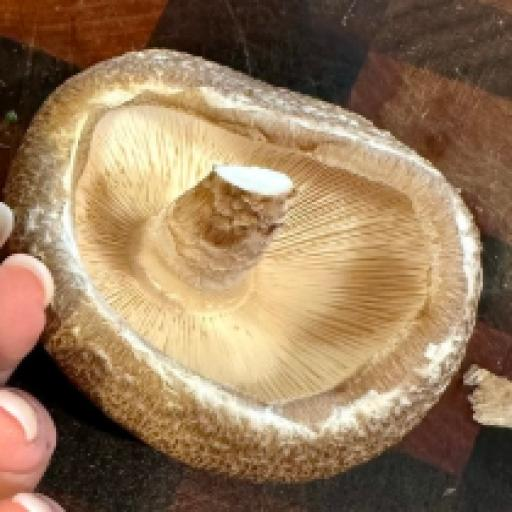Shiitake Mushroom: (0, 28, 512, 512)
